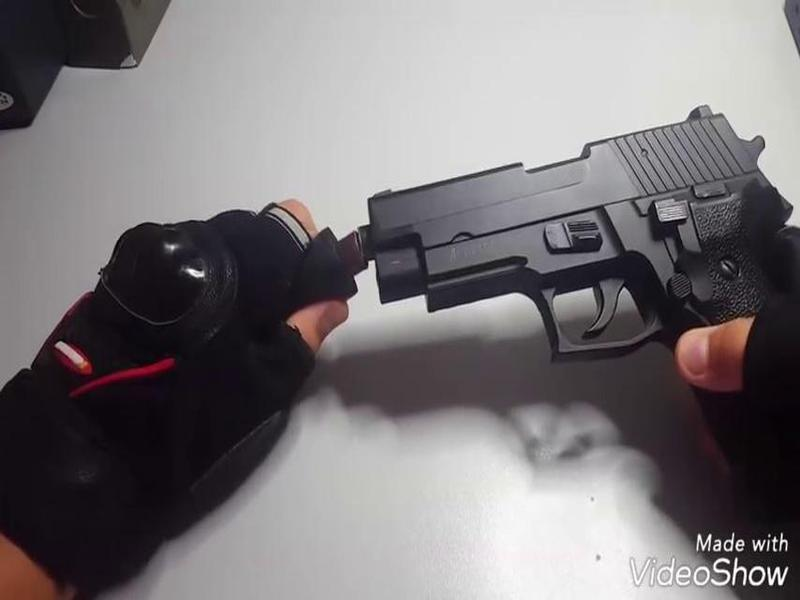Pistola: (305, 93, 800, 362)
